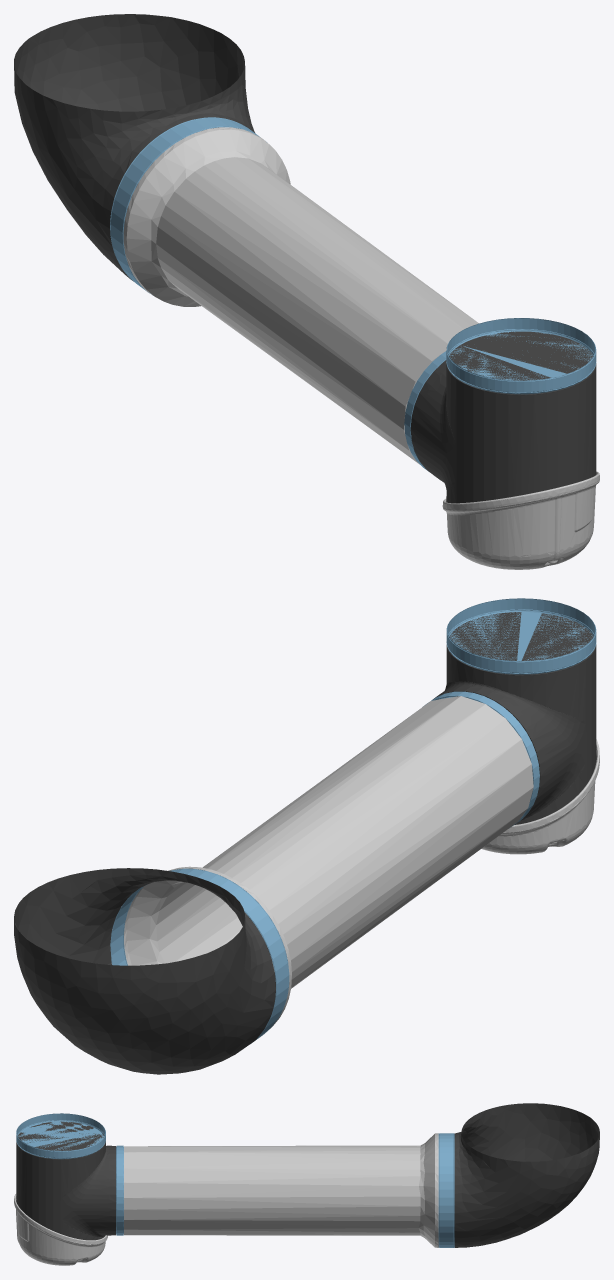
The model's file is forearm_3.obj.
3 views of the same model, one above another, from view 1: azimuth 30°, elevation 25°; view 2: azimuth 150°, elevation 25°; view 3: azimuth 270°, elevation 25° (orthographic). The views are drawn at different scales.
Parts seen in each view (by area): view 1: eSeries_UR5e_079-mesh, eSeries_UR5e_077-mesh, eSeries_UR5e_028-mesh, eSeries_UR5e_081-mesh, eSeries_UR5e_082-mesh, eSeries_UR5e_078-mesh, eSeries_UR5e_080-mesh; view 2: eSeries_UR5e_079-mesh, eSeries_UR5e_077-mesh, eSeries_UR5e_028-mesh, eSeries_UR5e_082-mesh, eSeries_UR5e_078-mesh, eSeries_UR5e_081-mesh, eSeries_UR5e_080-mesh; view 3: eSeries_UR5e_079-mesh, eSeries_UR5e_077-mesh, eSeries_UR5e_028-mesh, eSeries_UR5e_082-mesh, eSeries_UR5e_081-mesh, eSeries_UR5e_078-mesh, eSeries_UR5e_080-mesh.
Boxes of the visible parts, box(x1,y1,x2,y2) form: eSeries_UR5e_079-mesh: box(123, 127, 478, 464); eSeries_UR5e_077-mesh: box(14, 14, 254, 281); eSeries_UR5e_028-mesh: box(410, 331, 596, 503); eSeries_UR5e_081-mesh: box(442, 471, 599, 569); eSeries_UR5e_082-mesh: box(446, 318, 596, 394); eSeries_UR5e_078-mesh: box(110, 117, 259, 295); eSeries_UR5e_080-mesh: box(404, 351, 446, 471); eSeries_UR5e_079-mesh: box(124, 696, 533, 1028); eSeries_UR5e_077-mesh: box(14, 868, 275, 1074); eSeries_UR5e_028-mesh: box(434, 612, 596, 824); eSeries_UR5e_082-mesh: box(446, 598, 596, 674); eSeries_UR5e_078-mesh: box(110, 868, 289, 1043); eSeries_UR5e_081-mesh: box(481, 739, 599, 854); eSeries_UR5e_080-mesh: box(423, 691, 539, 828); eSeries_UR5e_079-mesh: box(124, 1133, 438, 1247); eSeries_UR5e_077-mesh: box(454, 1103, 599, 1247); eSeries_UR5e_028-mesh: box(16, 1121, 115, 1240); eSeries_UR5e_082-mesh: box(16, 1113, 105, 1159); eSeries_UR5e_081-mesh: box(14, 1194, 107, 1265); eSeries_UR5e_078-mesh: box(438, 1133, 454, 1247); eSeries_UR5e_080-mesh: box(116, 1145, 123, 1235).
Size of the model in its own units: 0.1158 by 0.1099 by 0.4894.
